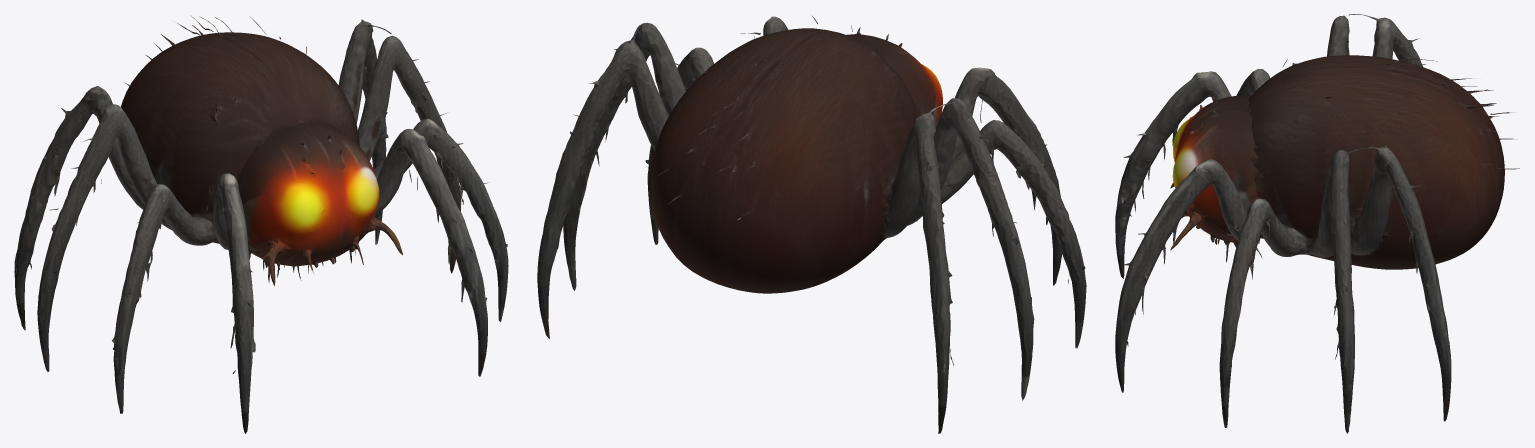
File: SewerSpider.glb
3 renders of one model, left to right at view 1: azimuth 30°, elevation 25°; view 2: azimuth 150°, elevation 25°; view 3: azimuth 270°, elevation 25°, orthographic. The views are drawn at different scales.
Parts seen in each view (by area): view 1: SewerSpider; view 2: SewerSpider; view 3: SewerSpider.
Part boxes in pixels (left/top/right/bottom): SewerSpider: left=14, top=15, right=508, bottom=433; SewerSpider: left=537, top=16, right=1086, bottom=433; SewerSpider: left=1115, top=14, right=1519, bottom=433.
Bounding box in the file's own units: 1.87 × 1.18 × 1.56.
1 material, 1 textured.
